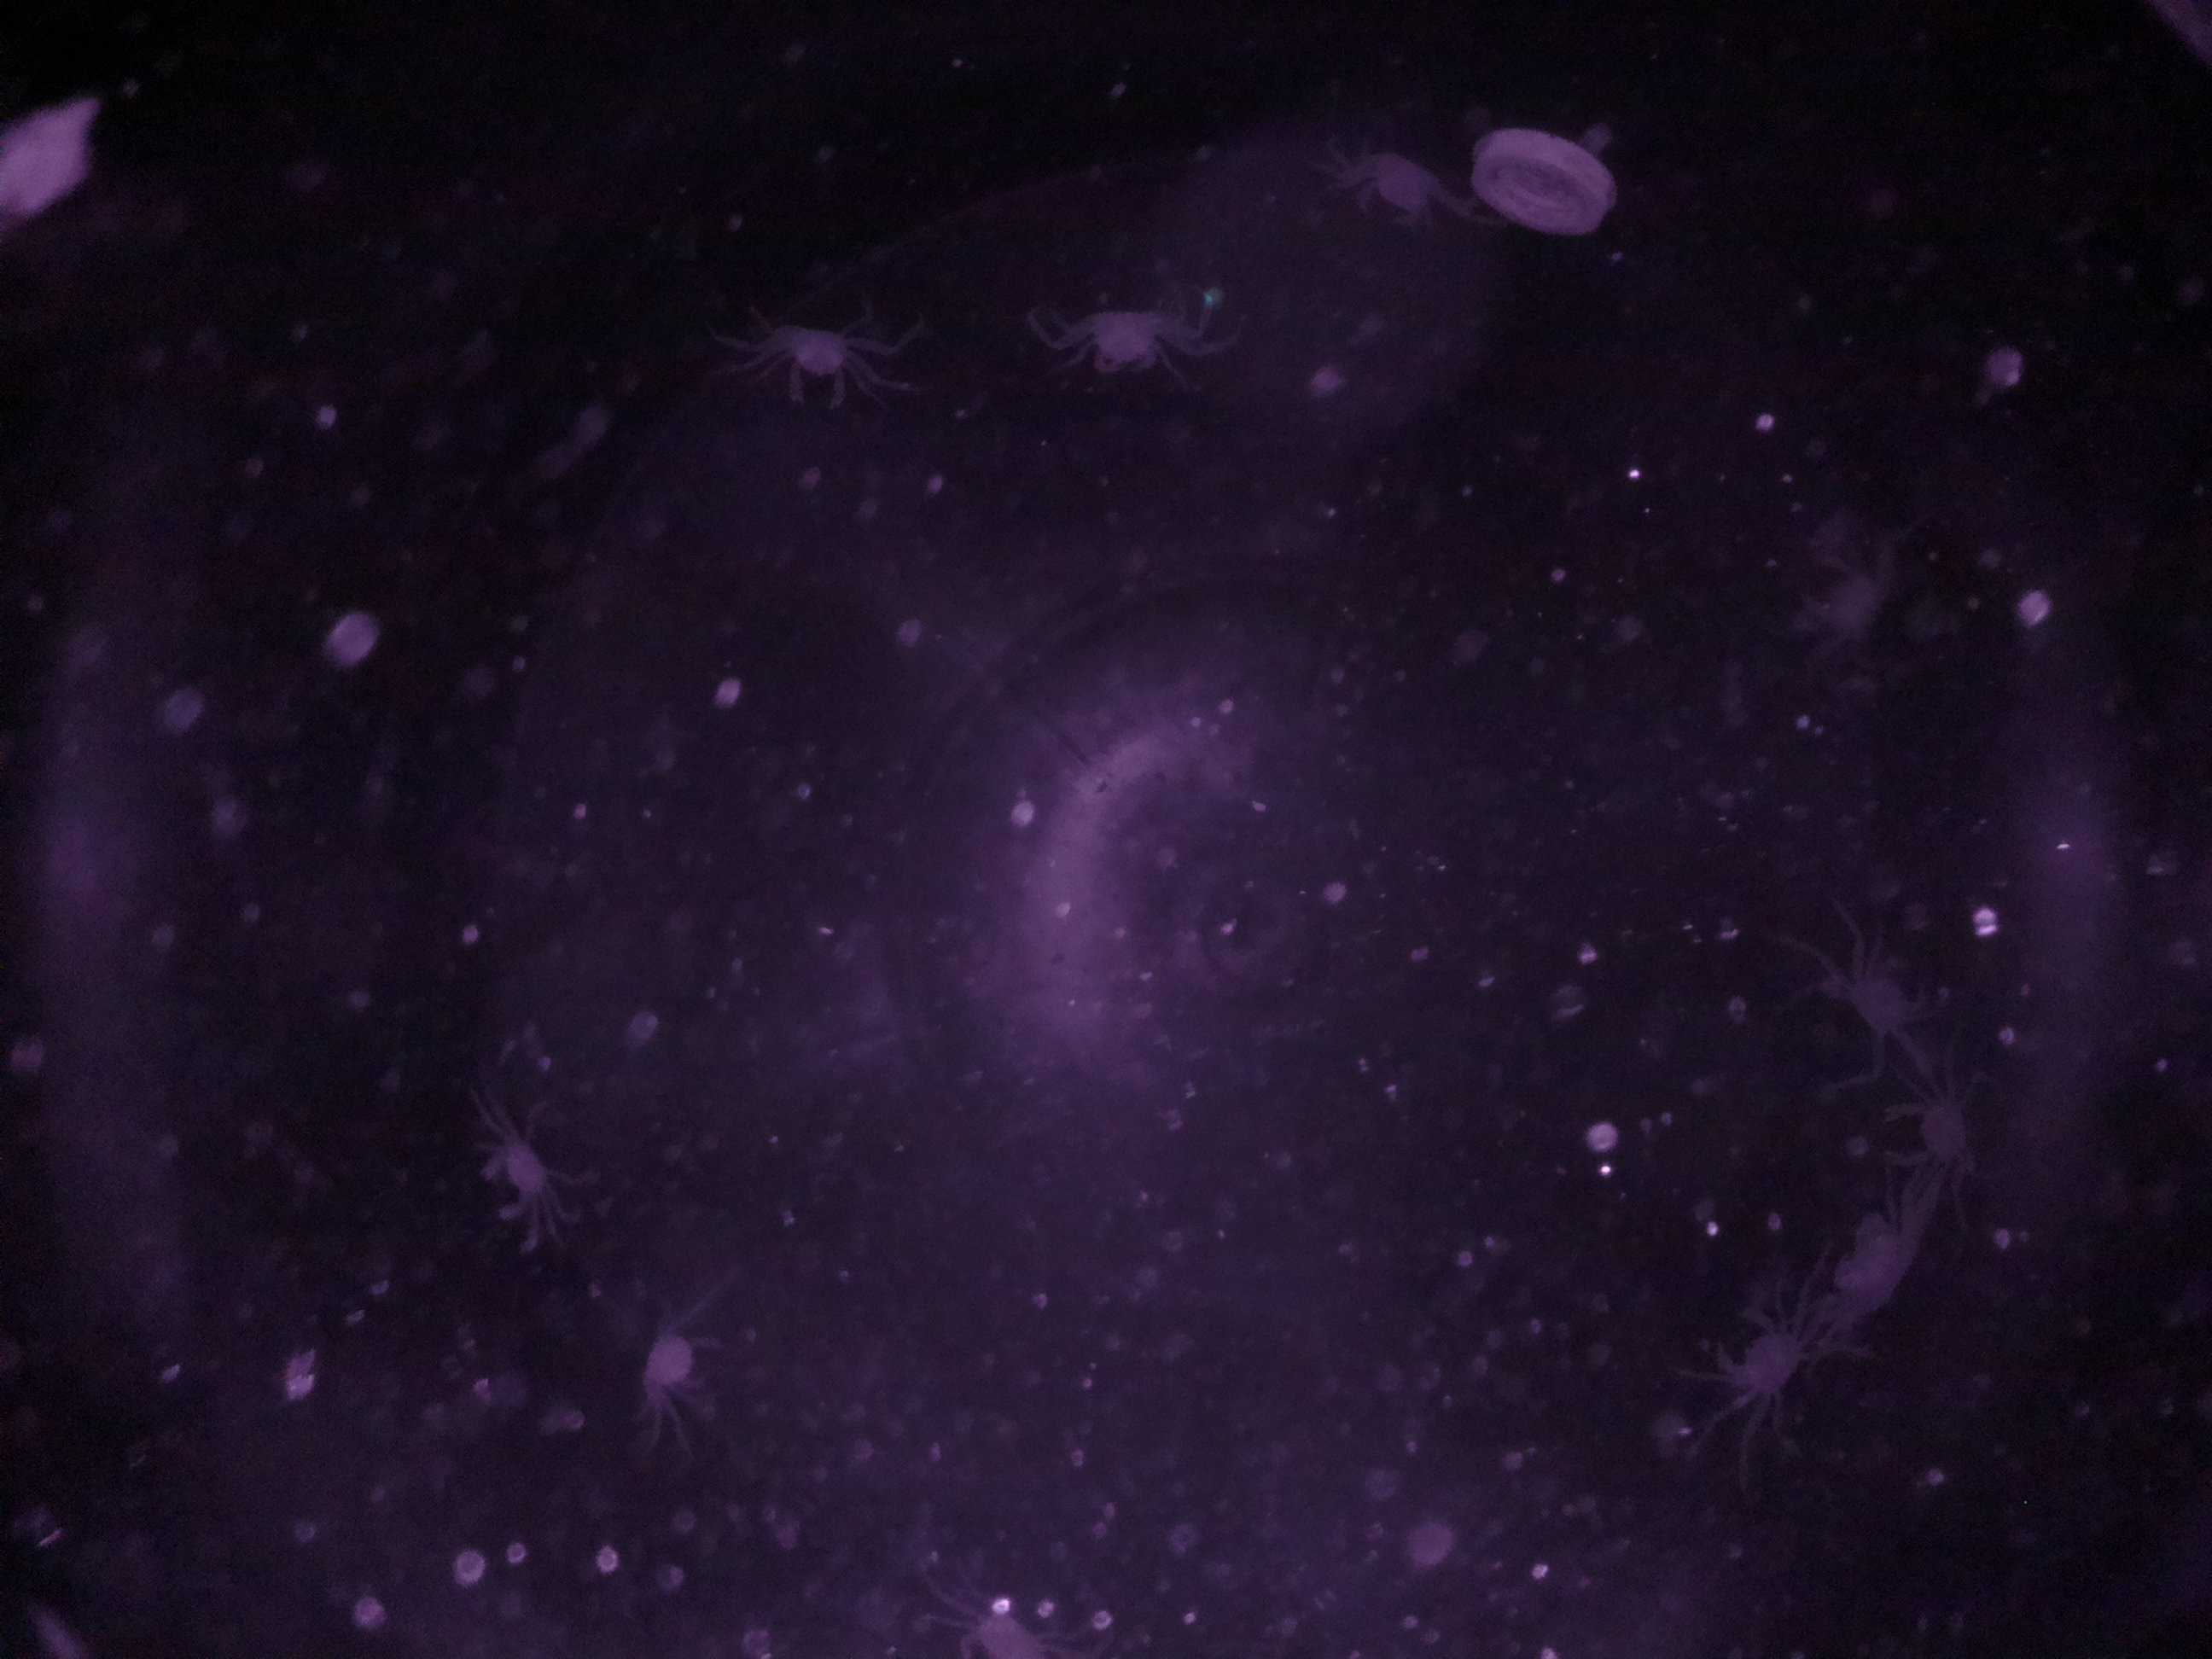Crab: (759, 291, 873, 423), (1705, 1295, 1820, 1415), (1829, 943, 1939, 1053), (1339, 131, 1446, 242), (625, 1307, 735, 1413), (1876, 1080, 1993, 1176), (1066, 288, 1179, 383), (469, 1127, 573, 1229)
